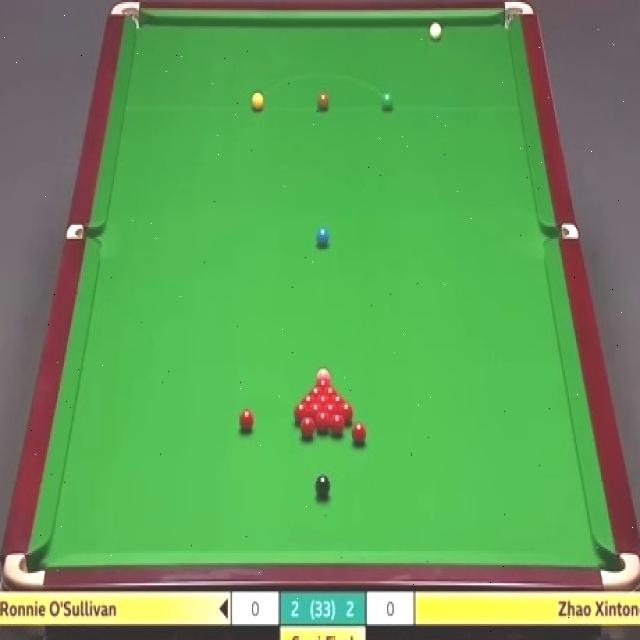black-ball: (314, 472, 331, 499)
blue-ball: (318, 227, 330, 250)
brown-ball: (318, 94, 330, 112)
green-ball: (382, 92, 393, 111)
pink-ball: (316, 363, 331, 381)
red-ball: (238, 409, 256, 435), (352, 420, 367, 448), (315, 410, 331, 435), (298, 417, 314, 441), (338, 402, 354, 422), (294, 402, 309, 423), (331, 415, 346, 436), (308, 402, 324, 418), (324, 404, 337, 421), (330, 394, 347, 405), (322, 387, 339, 397), (314, 378, 332, 387), (315, 395, 331, 405), (306, 387, 322, 396), (302, 395, 315, 406)
white-ball: (428, 20, 443, 44)
yellow-ball: (251, 90, 265, 112)
